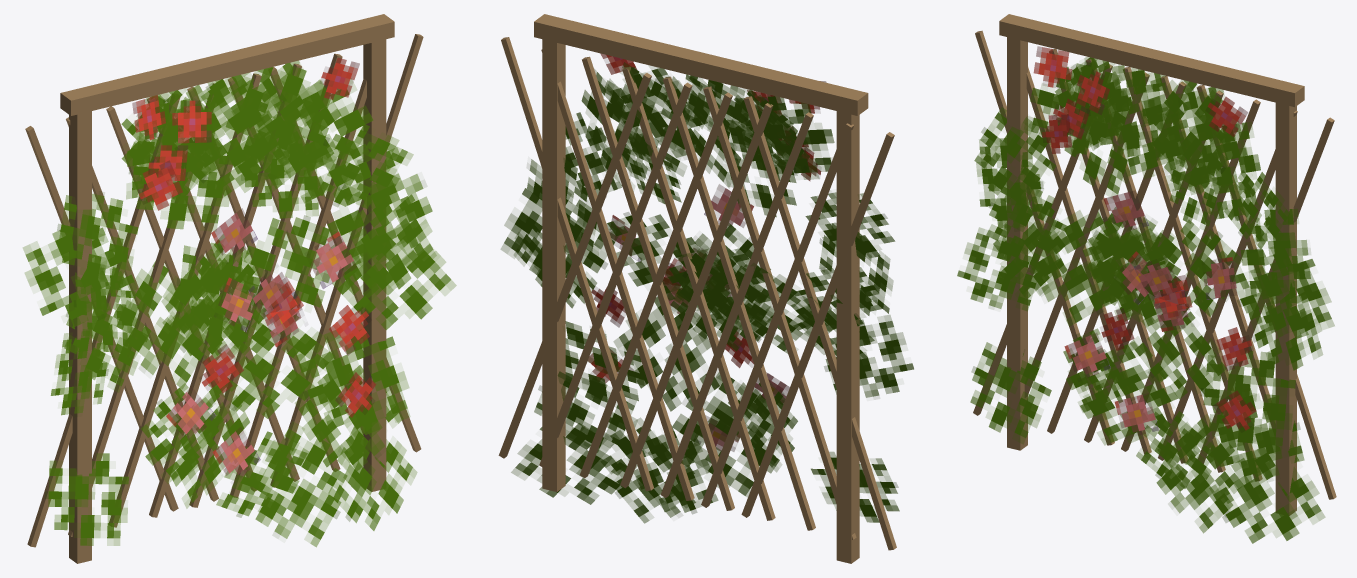
Rendered from rose_trellis.glb.
The picture shows the model from 3 angles, left to right: view 1: azimuth 30°, elevation 25°; view 2: azimuth 150°, elevation 25°; view 3: azimuth 330°, elevation 25°; orthographic projection. The views are drawn at different scales.
Visible parts, largest first — view 1: rose_trellis_Leaf_Dark, rose_trellis_Trellis_Wood, rose_trellis_Bloom_Red, rose_trellis_Bloom_Pink; view 2: rose_trellis_Trellis_Wood, rose_trellis_Leaf_Dark, rose_trellis_Bloom_Red, rose_trellis_Bloom_Pink; view 3: rose_trellis_Leaf_Dark, rose_trellis_Trellis_Wood, rose_trellis_Bloom_Red, rose_trellis_Bloom_Pink.
Part boxes in pixels (left/top/right/bottom): rose_trellis_Leaf_Dark: left=23, top=61, right=456, bottom=546; rose_trellis_Trellis_Wood: left=25, top=14, right=423, bottom=563; rose_trellis_Bloom_Red: left=132, top=58, right=375, bottom=417; rose_trellis_Bloom_Pink: left=166, top=208, right=356, bottom=475; rose_trellis_Trellis_Wood: left=498, top=14, right=896, bottom=563; rose_trellis_Leaf_Dark: left=501, top=62, right=913, bottom=523; rose_trellis_Bloom_Red: left=588, top=53, right=826, bottom=383; rose_trellis_Bloom_Pink: left=609, top=184, right=789, bottom=451; rose_trellis_Leaf_Dark: left=957, top=57, right=1334, bottom=543; rose_trellis_Trellis_Wood: left=973, top=14, right=1336, bottom=515; rose_trellis_Bloom_Red: left=1033, top=46, right=1256, bottom=430; rose_trellis_Bloom_Pink: left=1064, top=191, right=1237, bottom=434.
Size of the model in its own units: 2.28 by 2.66 by 0.3506.
Materials: 4 (3 with a texture image).
